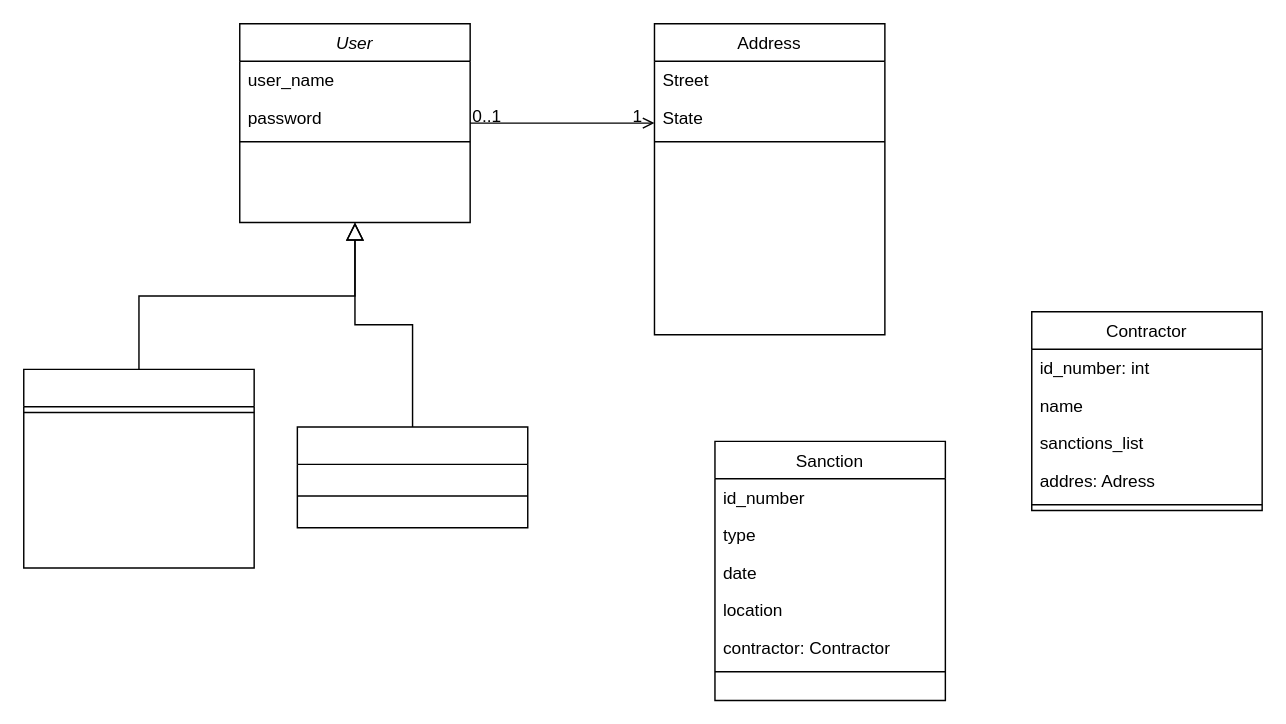
This 1286x724 diagram has some shape labels left out. Each missing label, with the centre of its shape:
Sanctioning official: the point at 412,477
Treating agent: the point at 138,468
